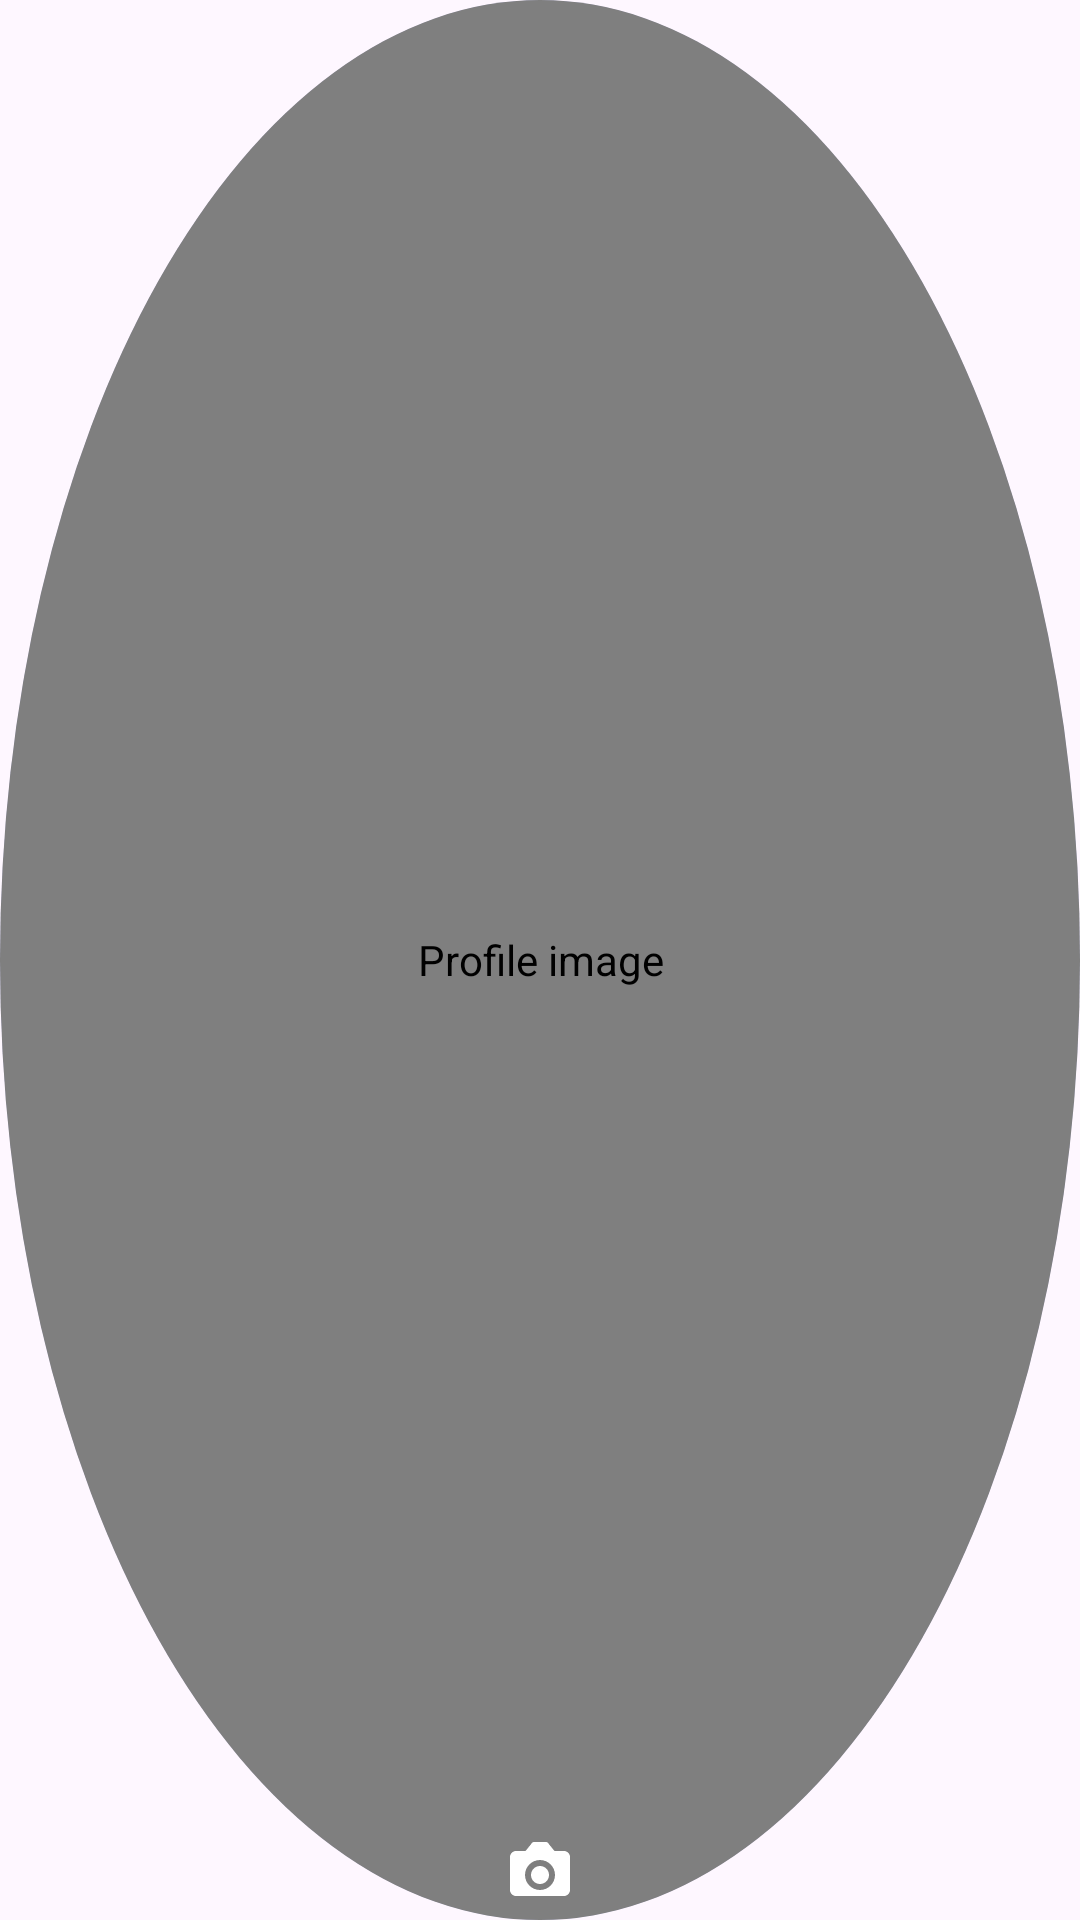

Locate icon controls on the screen. Image size 1080*1920, boxes as (x1, y1, x2, y2).
Camera icon: (510, 1842, 570, 1896)
